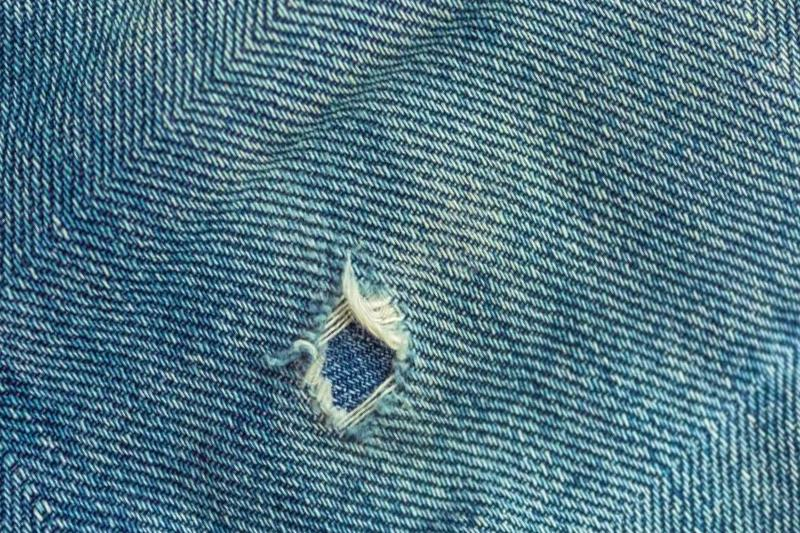hole: (286, 299, 417, 439)
